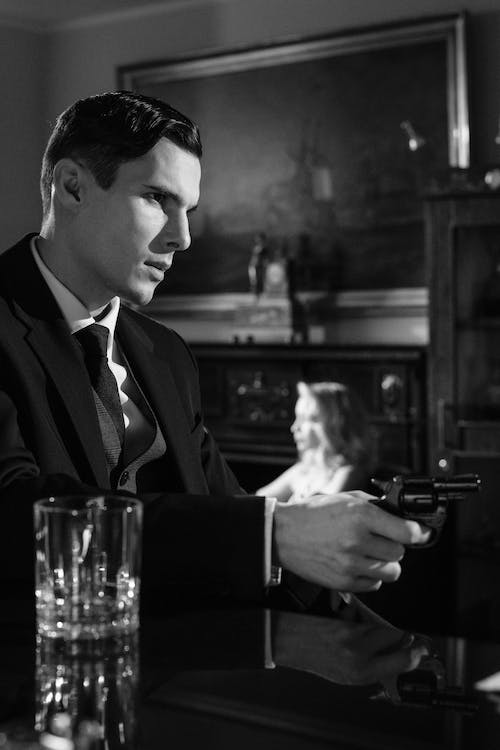alcohol: (29, 488, 148, 642)
gun: (364, 468, 489, 525)
